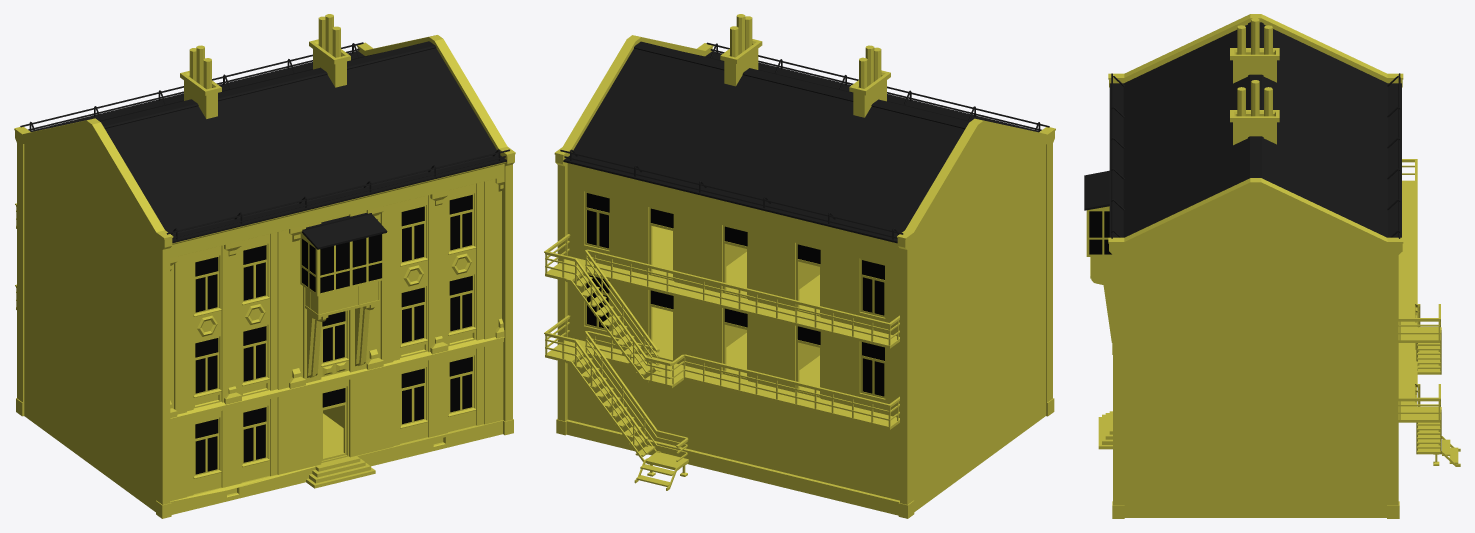
File: SM_fifth_house_3.fbx
3 views of the same model, side by side, from view 1: azimuth 30°, elevation 25°; view 2: azimuth 150°, elevation 25°; view 3: azimuth 270°, elevation 25° (orthographic).
Visible parts, largest first — view 1: Cylinder_6; view 2: Cylinder_6; view 3: Cylinder_6.
Part boxes in pixels (x1,y1,x2,y2): Cylinder_6: (14,14,515,518); Cylinder_6: (544,14,1055,518); Cylinder_6: (1084,14,1460,518).
Size of the model in its own units: 1364 by 1450 by 1287.
